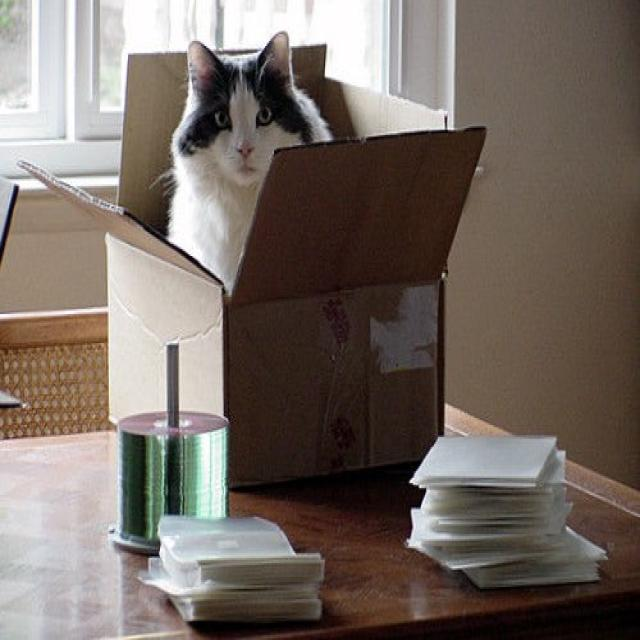left eye: (253, 102, 274, 126)
